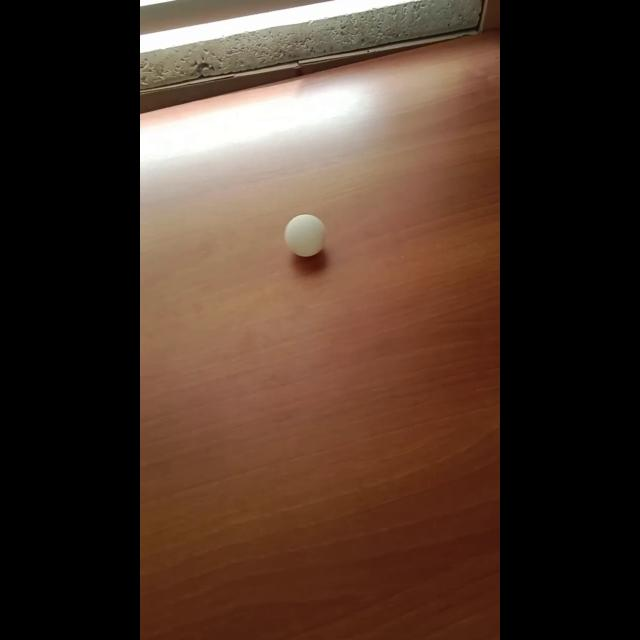white ball: (283, 213, 325, 257)
